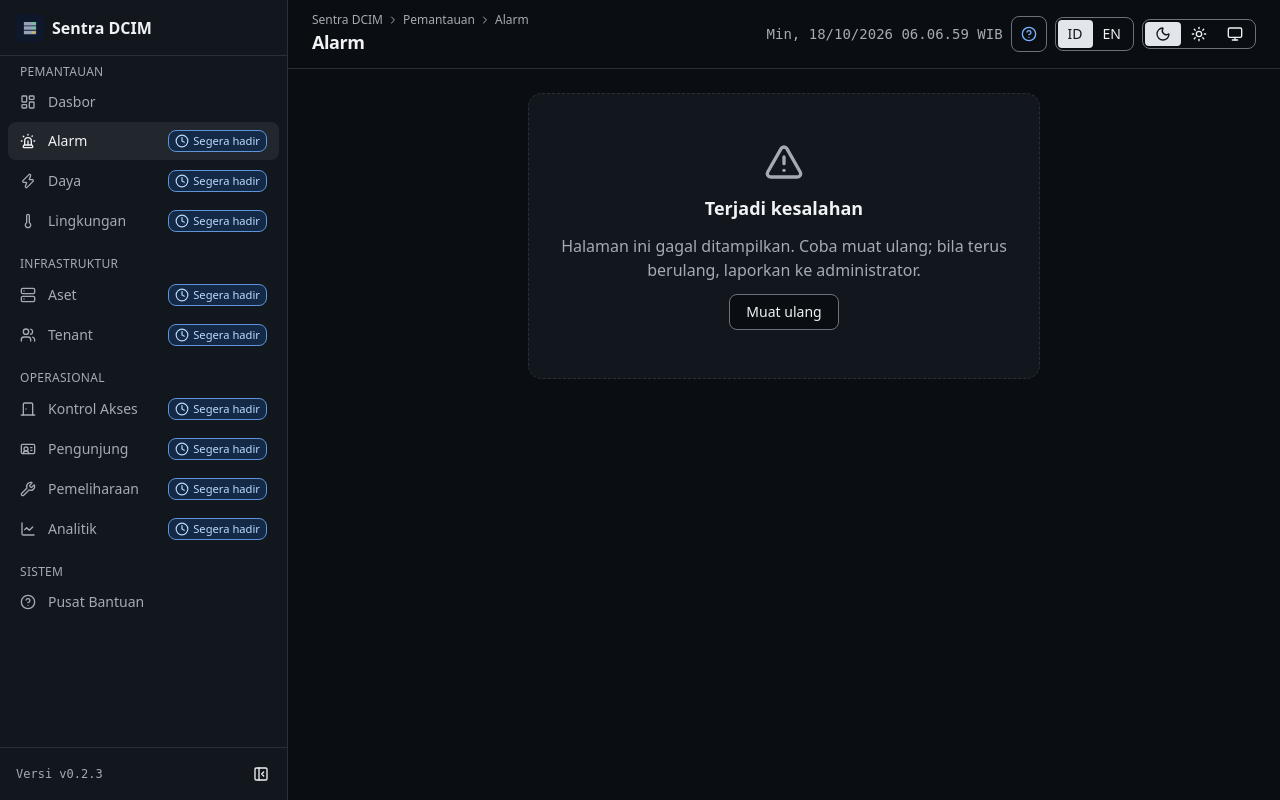
Scenario: page error boundary › shows a translated error page and resets when navigating to another page
Expected: the element with test id "page-error" shows "Terjadi kesalahan", [705,196,863,220]
// The shell survives: navigation still works and clears the error (boundary keyed by pathname).
Click the link "Dasbor". click: (58, 102)
box: [20,92,96,111]
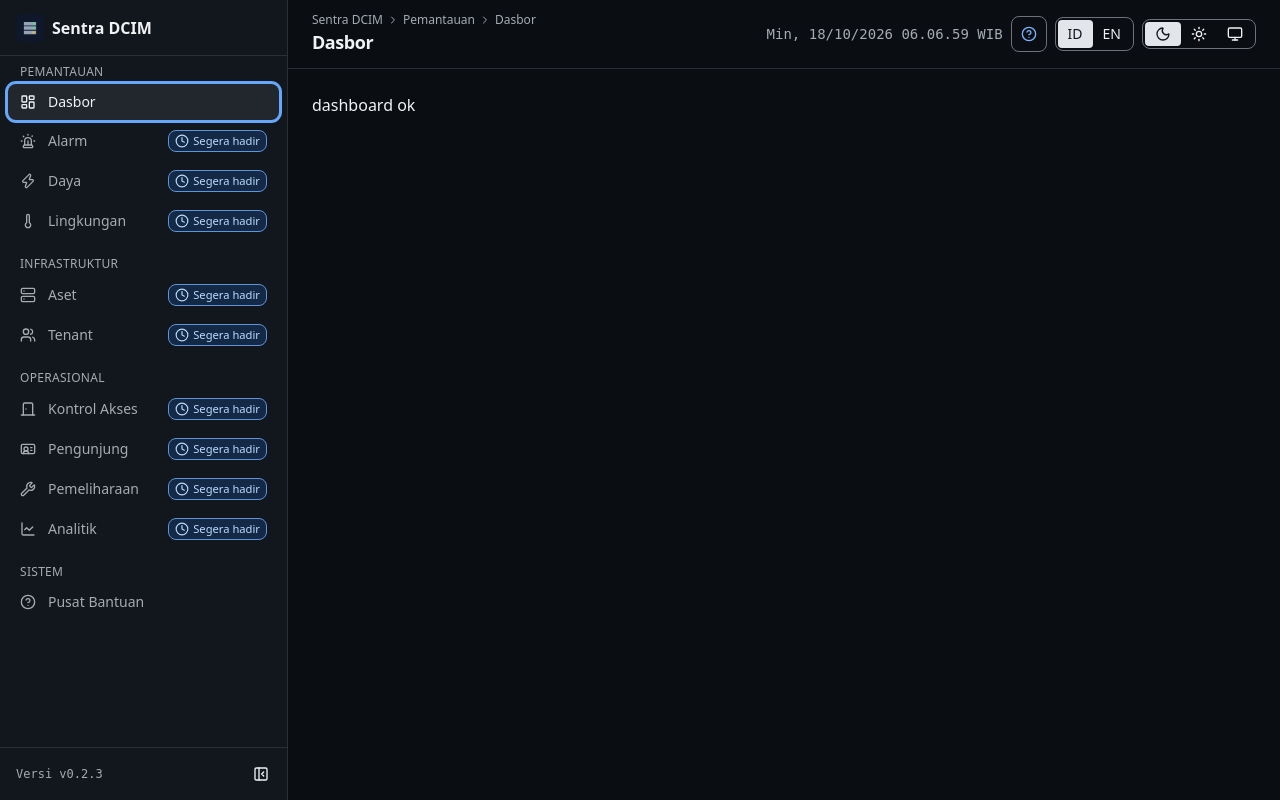
Expected: the text "dashboard ok" is shown, [312,94,415,116]
Expected: the element with test id "page-error" is gone
